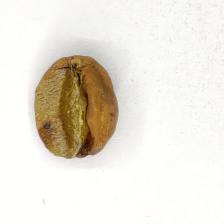NG: (34, 66, 95, 160)
